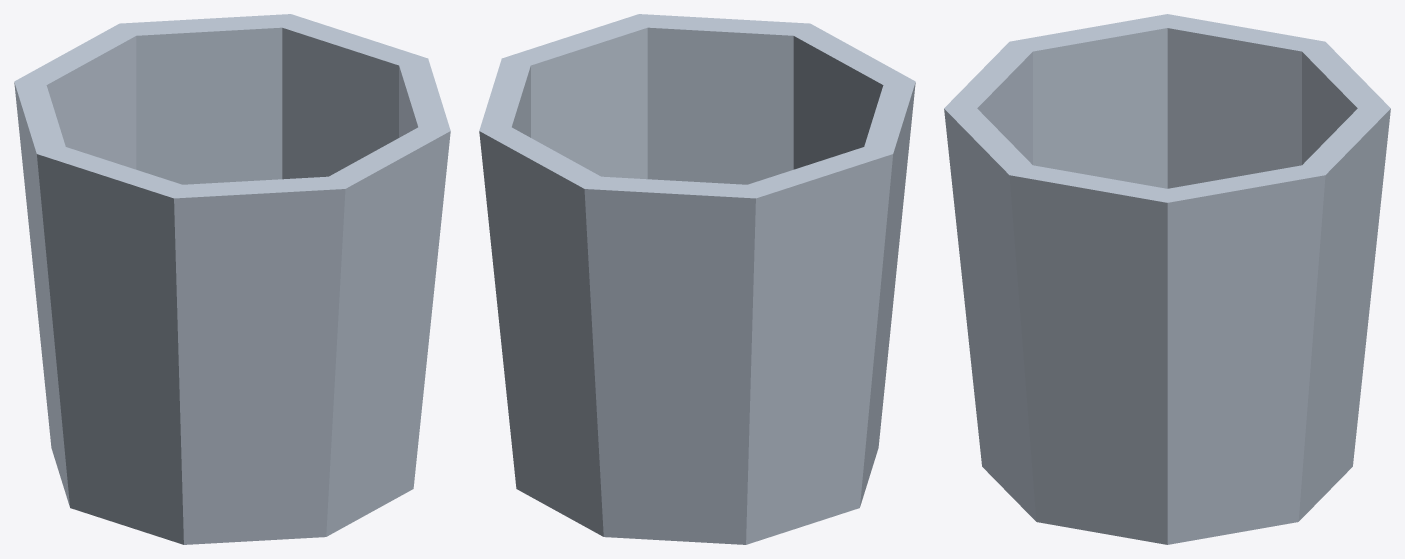
Rendered from Bin.fbx.
3 views of the same model, side by side, from view 1: azimuth 30°, elevation 25°; view 2: azimuth 150°, elevation 25°; view 3: azimuth 270°, elevation 25° (orthographic).
Visible parts, largest first — view 1: TrashCan; view 2: TrashCan; view 3: TrashCan.
Part boxes in pixels (bbox=[...]): TrashCan: bbox=[14, 14, 450, 544]; TrashCan: bbox=[479, 14, 915, 544]; TrashCan: bbox=[944, 14, 1390, 544].
Size of the model in its own units: 2.98 by 2.63 by 2.98.
